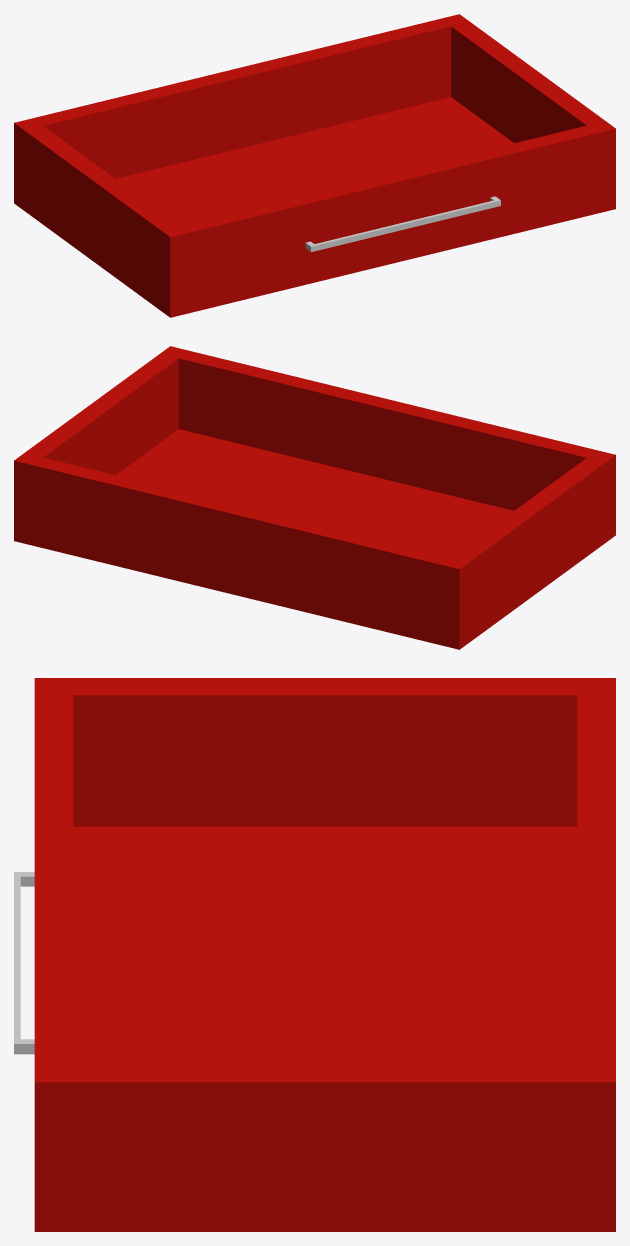
Rendered from Me_Desk_Drawer_1.fbx.
The picture shows the model from 3 angles, top to bottom: view 1: azimuth 30°, elevation 25°; view 2: azimuth 150°, elevation 25°; view 3: azimuth 270°, elevation 25°; orthographic projection. The views are drawn at different scales.
Parts seen in each view (by area): view 1: Me_Desk_Drawer_1; view 2: Me_Desk_Drawer_1; view 3: Me_Desk_Drawer_1.
Boxes of the visible parts, x1,y1,x2,y2 form: Me_Desk_Drawer_1: (14, 14, 615, 317); Me_Desk_Drawer_1: (14, 346, 615, 649); Me_Desk_Drawer_1: (14, 678, 615, 1231).
Bounding box in the file's own units: 1202 × 757 × 208.
